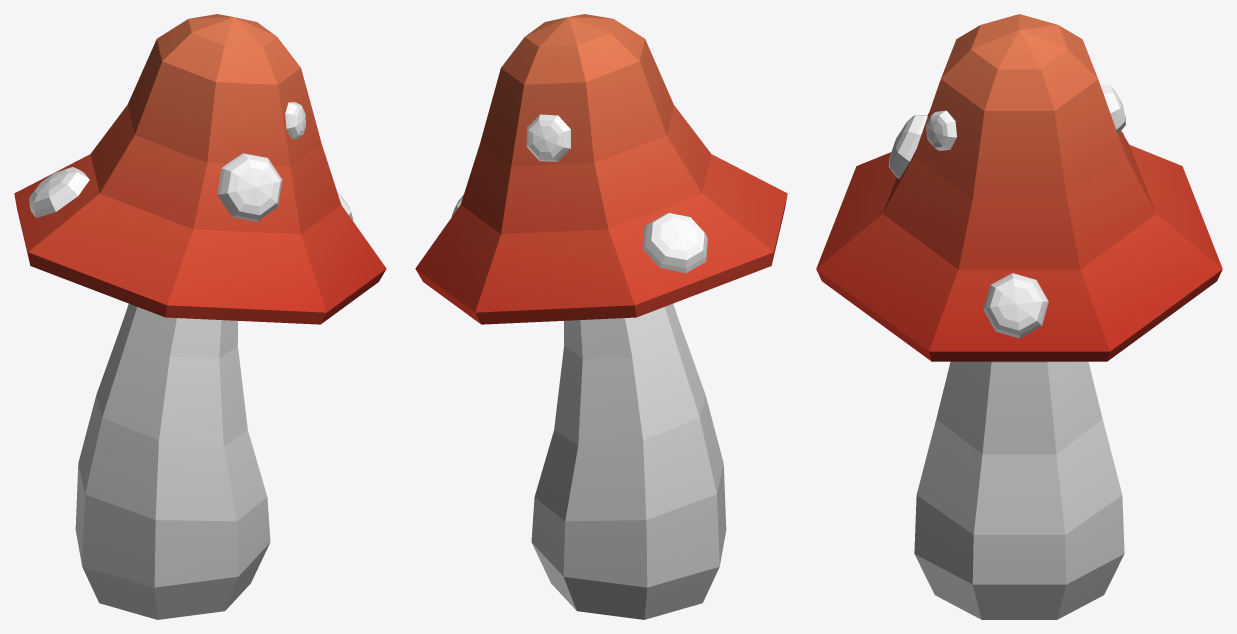
The model's file is agaric mushroom 4.fbx.
3 renders of one model, left to right at view 1: azimuth 30°, elevation 25°; view 2: azimuth 150°, elevation 25°; view 3: azimuth 270°, elevation 25°, orthographic. The views are drawn at different scales.
Visible parts, largest first — view 1: agaric mushroom 4; view 2: agaric mushroom 4; view 3: agaric mushroom 4.
Boxes of the visible parts, bbox=[...] form: agaric mushroom 4: bbox=[14, 14, 386, 619]; agaric mushroom 4: bbox=[415, 14, 787, 619]; agaric mushroom 4: bbox=[816, 14, 1222, 619].
Bounding box in the file's own units: 379 × 630 × 394.
